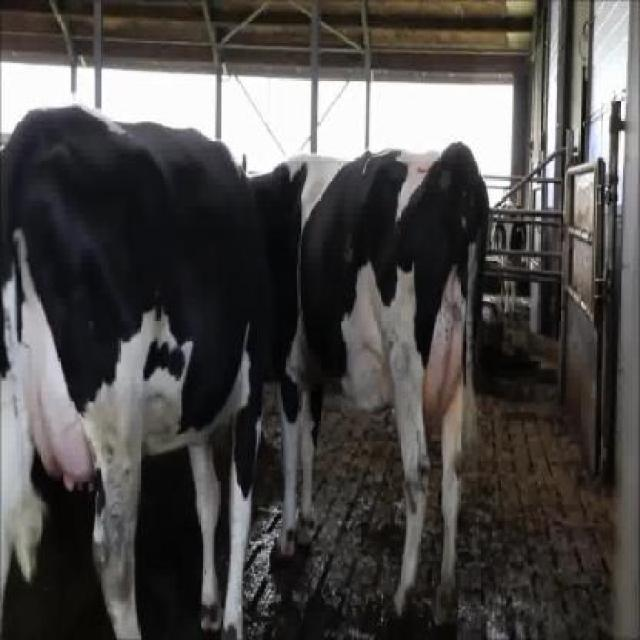Cow: (0, 101, 263, 637), (242, 138, 489, 637)
